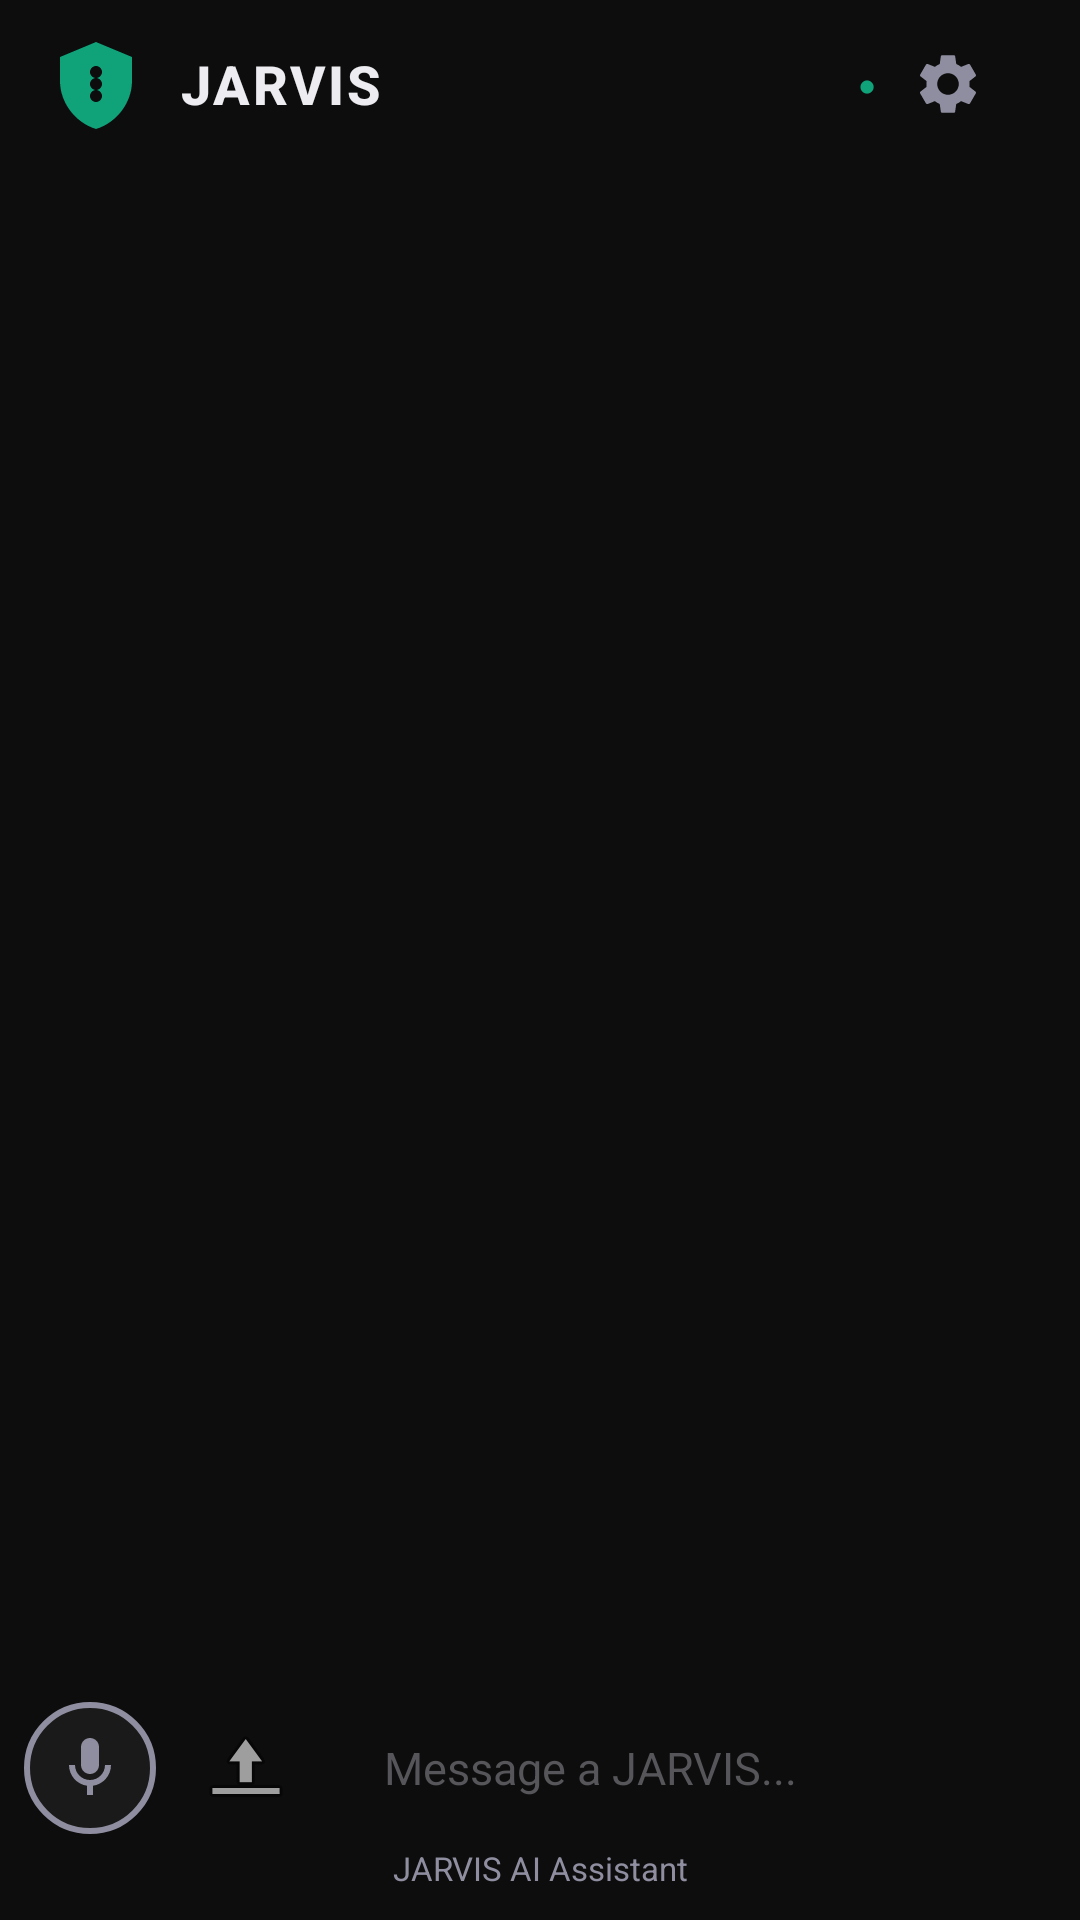

Icons on this 1080 x 1920 Android screen, each with the point to tap as point (x, y):
Micro actif: point (90, 1768)
Upload file: point (246, 1766)
